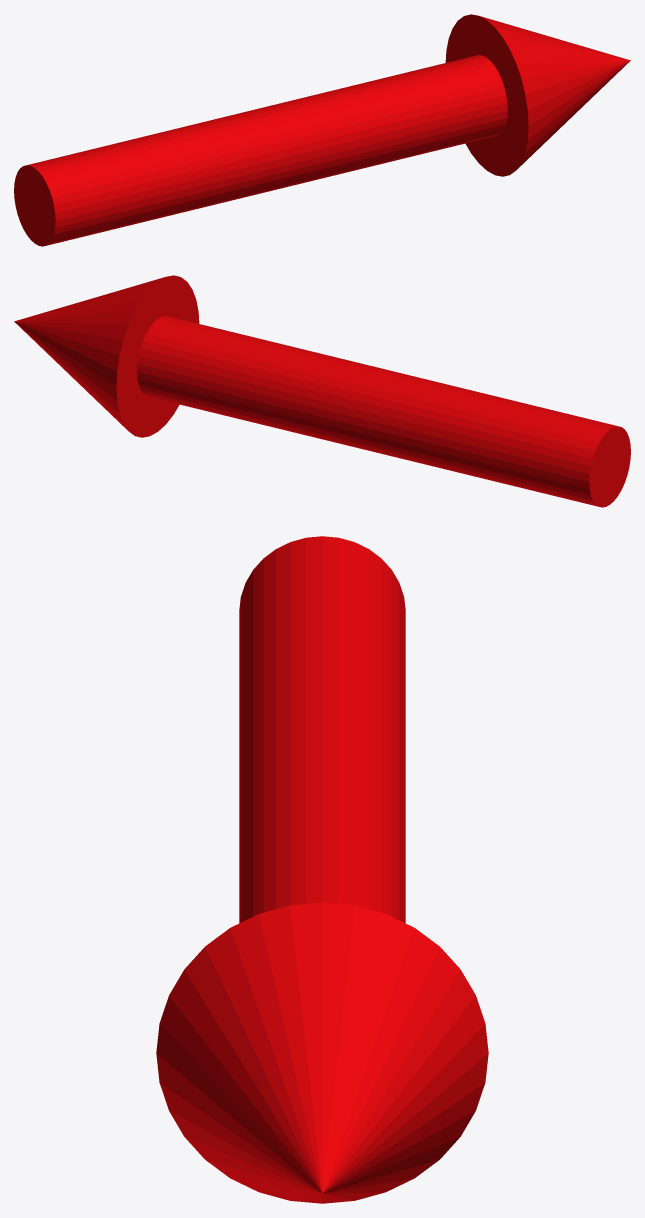
File: gizmo_x.glb
The picture shows the model from 3 angles, top to bottom: view 1: azimuth 30°, elevation 25°; view 2: azimuth 150°, elevation 25°; view 3: azimuth 270°, elevation 25°; orthographic projection. The views are drawn at different scales.
Visible parts, largest first — view 1: x; view 2: x; view 3: x.
Part boxes in pixels (<box>): x: <box>14,14,630,246</box>; x: <box>14,275,630,507</box>; x: <box>156,536,488,1203</box>.
Bounding box in the file's own units: 1.56 × 0.3772 × 0.3772.
